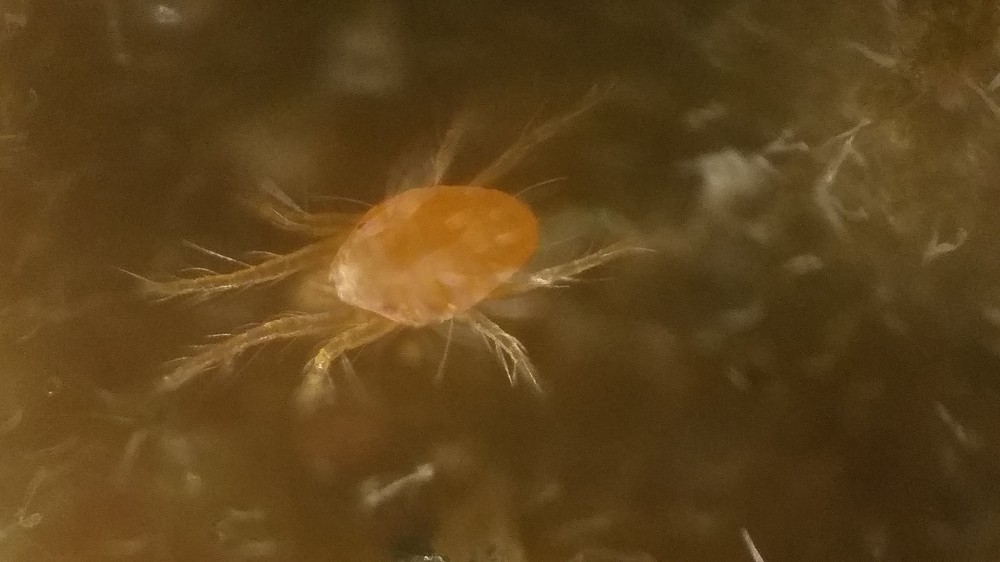Aracnido Rojo: (143, 95, 674, 412)
